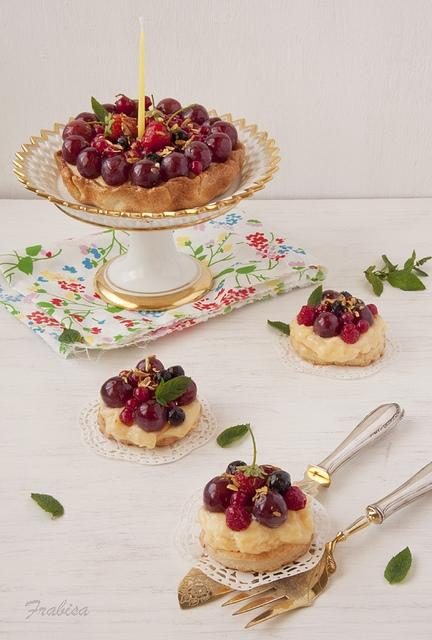cherry: (252, 486, 287, 528), (203, 475, 236, 513), (132, 399, 166, 432), (100, 376, 134, 408), (206, 121, 238, 150), (132, 159, 162, 189), (204, 132, 232, 164), (77, 148, 105, 178), (160, 152, 188, 182), (184, 141, 212, 171), (101, 158, 129, 186), (312, 312, 341, 338), (62, 135, 87, 165), (266, 470, 292, 497), (174, 375, 196, 406), (182, 103, 210, 126), (62, 120, 92, 141), (136, 358, 164, 380), (352, 303, 374, 327), (320, 290, 342, 312), (115, 94, 137, 114), (156, 98, 181, 115), (166, 406, 186, 426), (259, 464, 277, 486), (331, 300, 351, 318), (231, 491, 252, 507), (226, 460, 247, 474), (74, 111, 100, 122), (167, 365, 185, 379), (144, 154, 164, 166), (134, 387, 149, 402), (189, 160, 203, 176), (102, 104, 122, 115), (202, 117, 222, 128), (170, 130, 188, 142), (339, 312, 354, 326), (356, 319, 370, 332), (117, 136, 131, 148), (126, 398, 138, 412), (120, 411, 132, 424), (145, 96, 152, 110)
strawberry: (142, 104, 197, 152), (234, 424, 268, 497), (84, 112, 138, 142), (145, 94, 167, 128)
